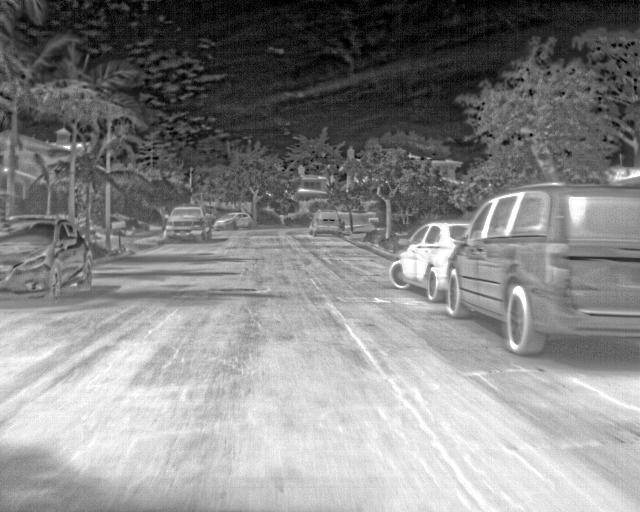car: (444, 176, 639, 355), (0, 216, 94, 301), (389, 219, 480, 301), (162, 205, 214, 244), (309, 208, 341, 236), (214, 210, 254, 231)
